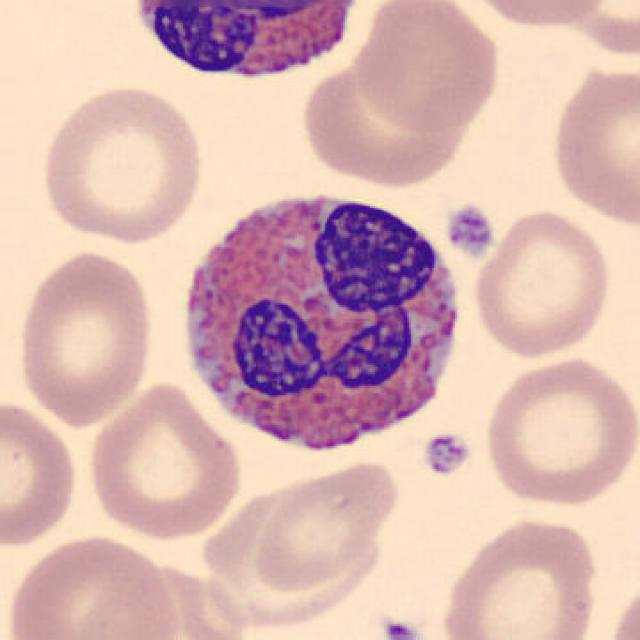Eosinophil: (166, 171, 478, 469), (113, 0, 382, 100)
Platelets: (442, 201, 498, 261), (419, 430, 473, 478), (377, 615, 430, 640)
RBC: (36, 79, 210, 247), (84, 379, 245, 543), (13, 247, 158, 428), (478, 352, 636, 510), (469, 205, 614, 363), (238, 457, 400, 596), (438, 513, 604, 640), (352, 0, 503, 136), (305, 64, 468, 189), (1, 530, 183, 640), (546, 58, 640, 229), (0, 395, 82, 552), (549, 0, 640, 62), (458, 0, 627, 33), (602, 573, 640, 640)
